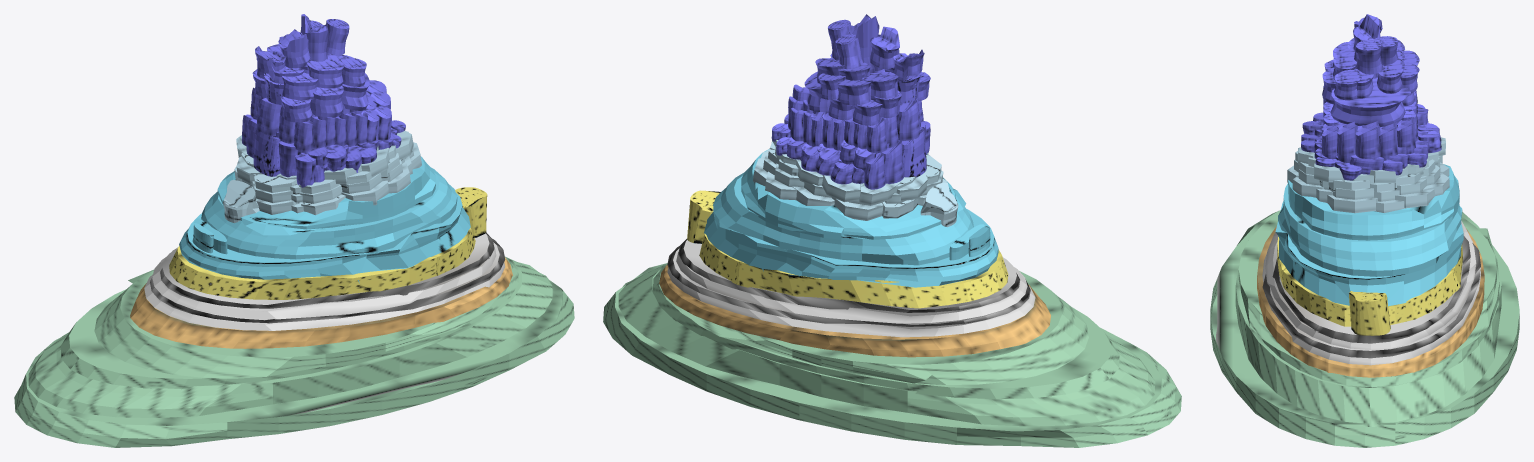
The model's file is PerdaLiana3d.glb.
3 renders of one model, left to right at view 1: azimuth 30°, elevation 25°; view 2: azimuth 150°, elevation 25°; view 3: azimuth 270°, elevation 25°, orthographic. The views are drawn at different scales.
Parts seen in each view (by area): view 1: Base, Blu, Cima, Marmo, Mattoni celesti, Sabbia gialla, Sabbia arancio; view 2: Base, Blu, Cima, Marmo, Sabbia arancio, Sabbia gialla, Mattoni celesti; view 3: Base, Blu, Cima, Marmo, Mattoni celesti, Sabbia gialla, Sabbia arancio.
Part boxes in pixels (x1,y1,x2,y2): Base: [14, 256, 574, 447]; Blu: [179, 156, 470, 283]; Cima: [242, 14, 405, 187]; Marmo: [144, 232, 505, 330]; Mattoni celesti: [223, 130, 421, 223]; Sabbia gialla: [169, 187, 487, 299]; Sabbia arancio: [130, 257, 512, 348]; Base: [603, 263, 1181, 447]; Blu: [704, 149, 998, 287]; Cima: [771, 14, 930, 189]; Marmo: [667, 239, 1035, 337]; Sabbia arancio: [659, 265, 1050, 357]; Sabbia gialla: [687, 190, 1008, 308]; Mattoni celesti: [753, 140, 958, 227]; Base: [1210, 210, 1519, 447]; Blu: [1275, 164, 1463, 306]; Cima: [1301, 14, 1441, 180]; Marmo: [1262, 221, 1480, 365]; Mattoni celesti: [1287, 137, 1449, 213]; Sabbia gialla: [1277, 237, 1462, 335]; Sabbia arancio: [1257, 226, 1484, 377].
Size of the model in its own units: 8.35 by 4.97 by 4.41.
Materials: 214 (214 with a texture image).
